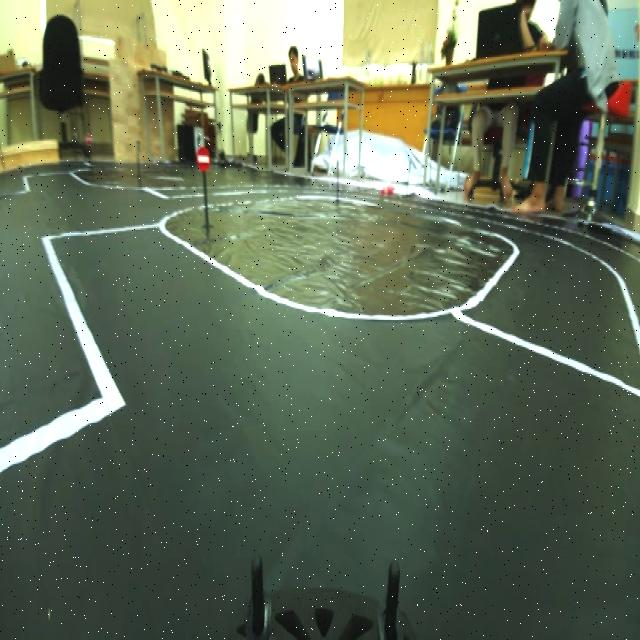no_entry: (190, 142, 216, 178)
